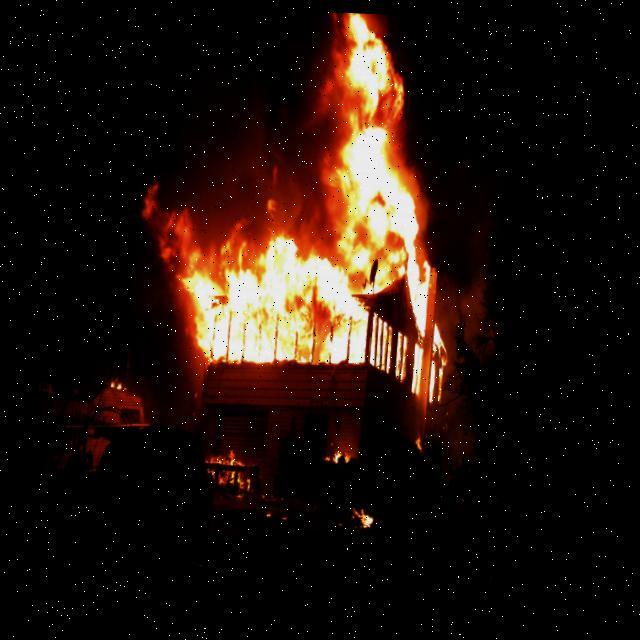Fire: (188, 15, 478, 396)
